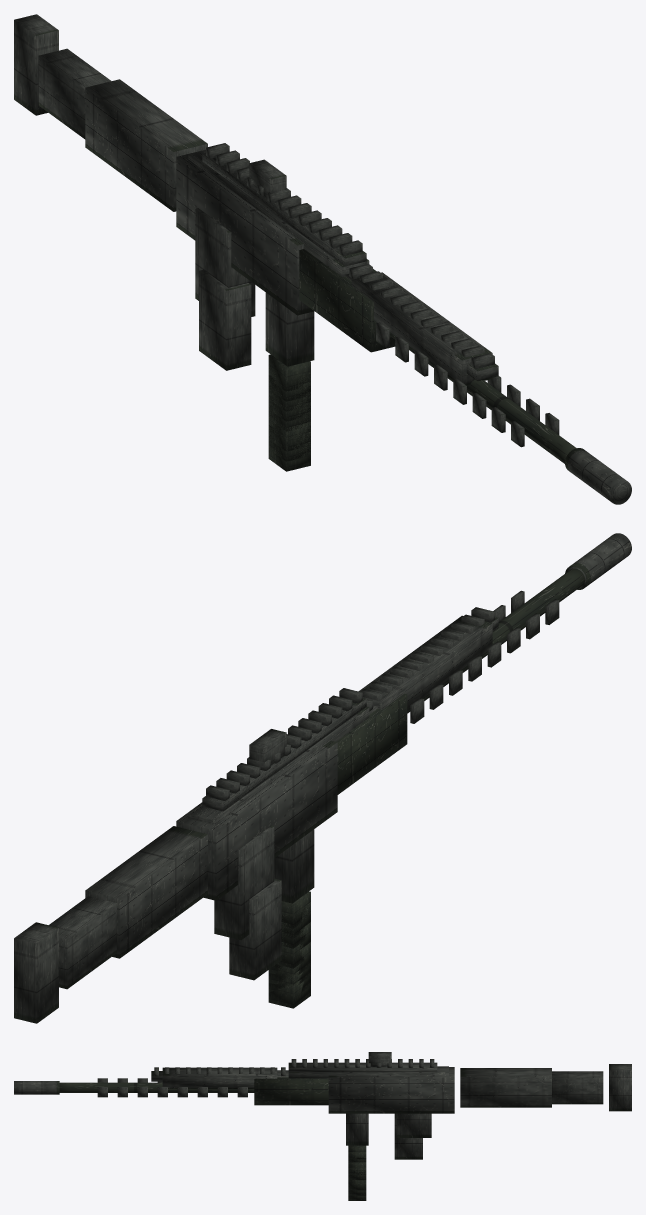
The picture shows the model from 3 angles, top to bottom: view 1: azimuth 30°, elevation 25°; view 2: azimuth 150°, elevation 25°; view 3: azimuth 270°, elevation 25°; orthographic projection. The views are drawn at different scales.
Parts seen in each view (by area): view 1: m4; view 2: m4; view 3: m4.
Part boxes in pixels (x1,y1,x2,y2): m4: [14, 14, 631, 504]; m4: [14, 533, 631, 1023]; m4: [14, 1052, 631, 1200].
Size of the model in its own units: 0.05 by 0.277 by 1.08.
Materials: 1 (1 with a texture image).
